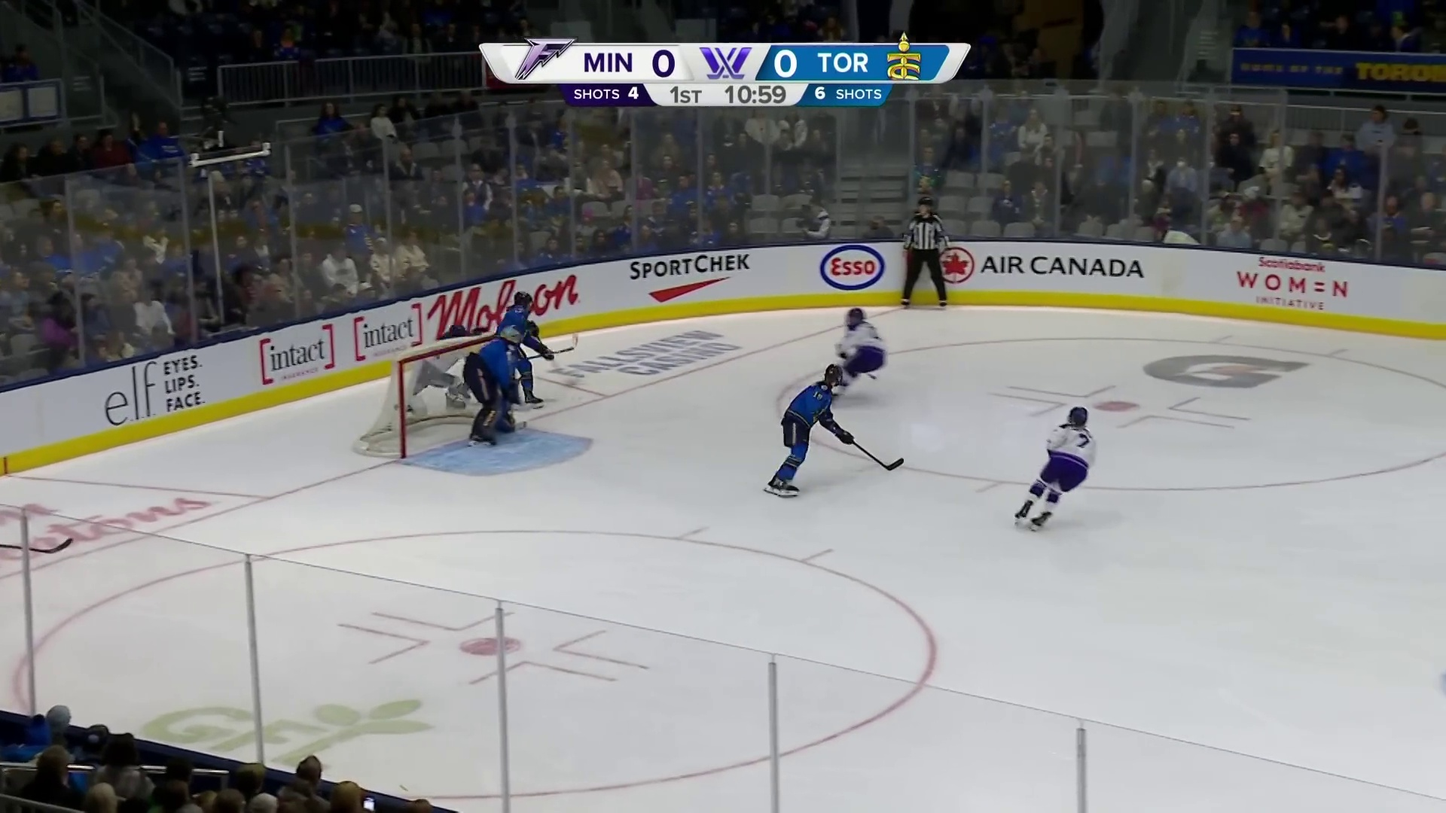goalkeeper: (463, 326, 521, 446)
player: (765, 362, 856, 494), (479, 288, 555, 409), (397, 323, 474, 413), (818, 305, 882, 407)
referee: (899, 199, 953, 309)
